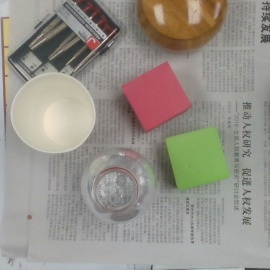bottle: (80, 149, 157, 223)
chess: (136, 1, 228, 52)
cup: (11, 72, 97, 154)
